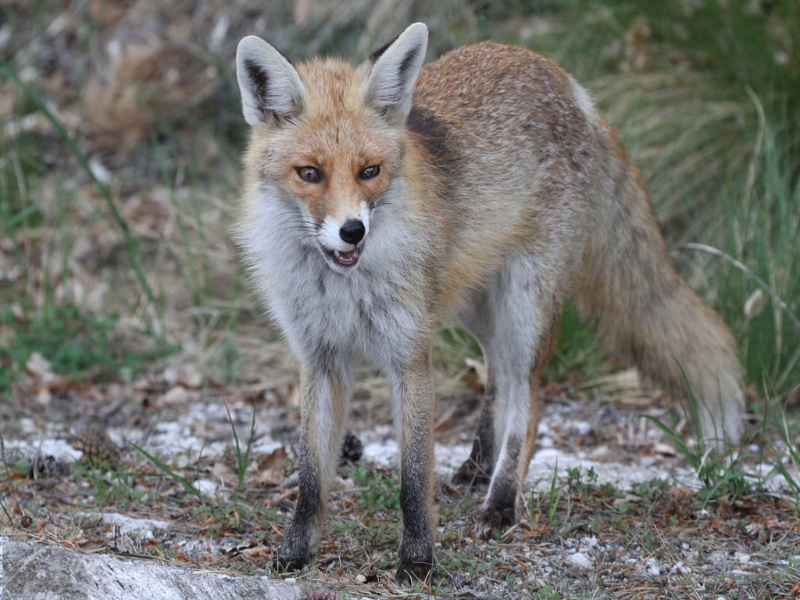fox: (227, 30, 750, 579)
